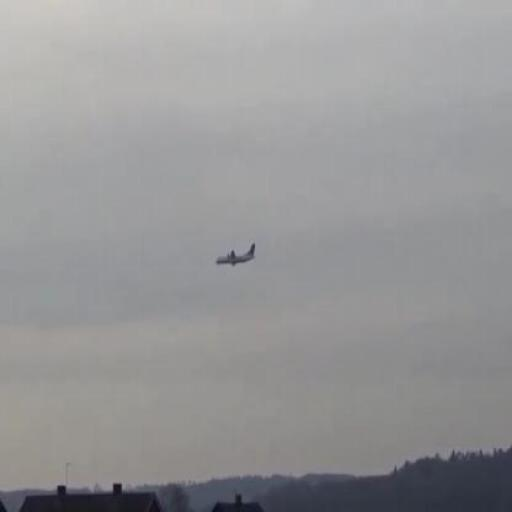aircraft: (215, 242, 256, 268)
